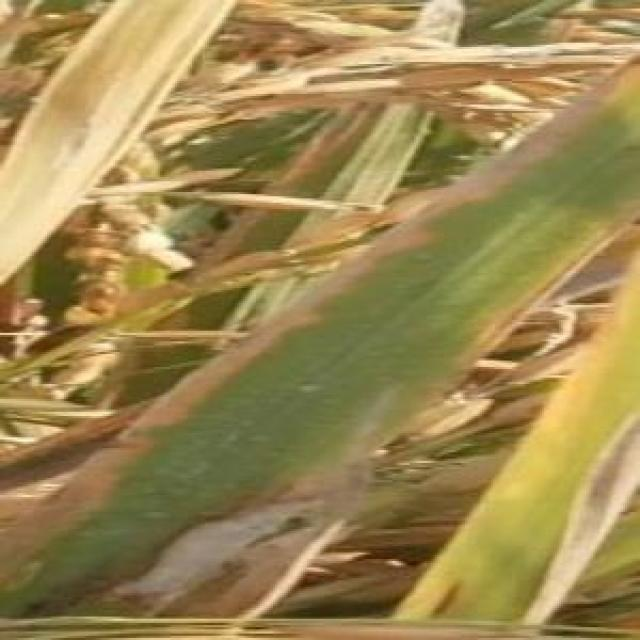Bacterial_Blight: (0, 51, 640, 577), (0, 0, 243, 286), (514, 403, 638, 640)
Rice_Blast: (99, 485, 320, 607)
